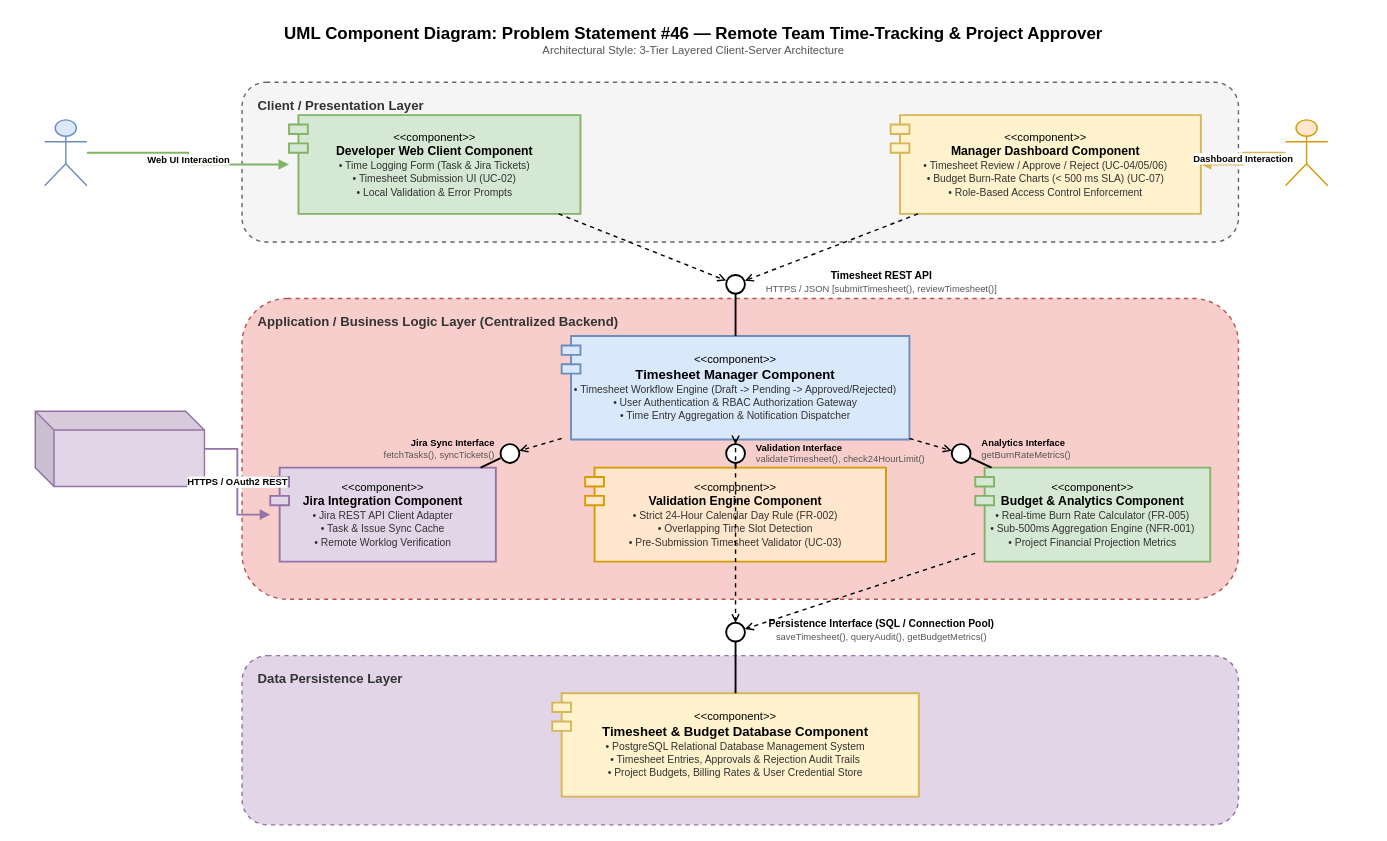
Image size: 1387x841. Some labels were removed from this diagram. The centre of each missing label's shape, as x and y in pixels:
<<external system>> Jira Cloud / Server Project Management REST API: the point at 119,448
Engineering Manager (Dashboard & Approval): the point at 1306,152
Remote Developer (Web / Mobile): the point at 65,152
